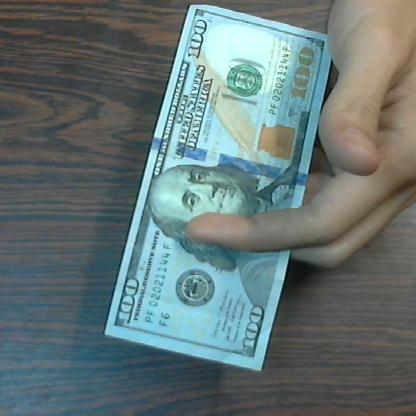dollar_front: (98, 0, 372, 372)
